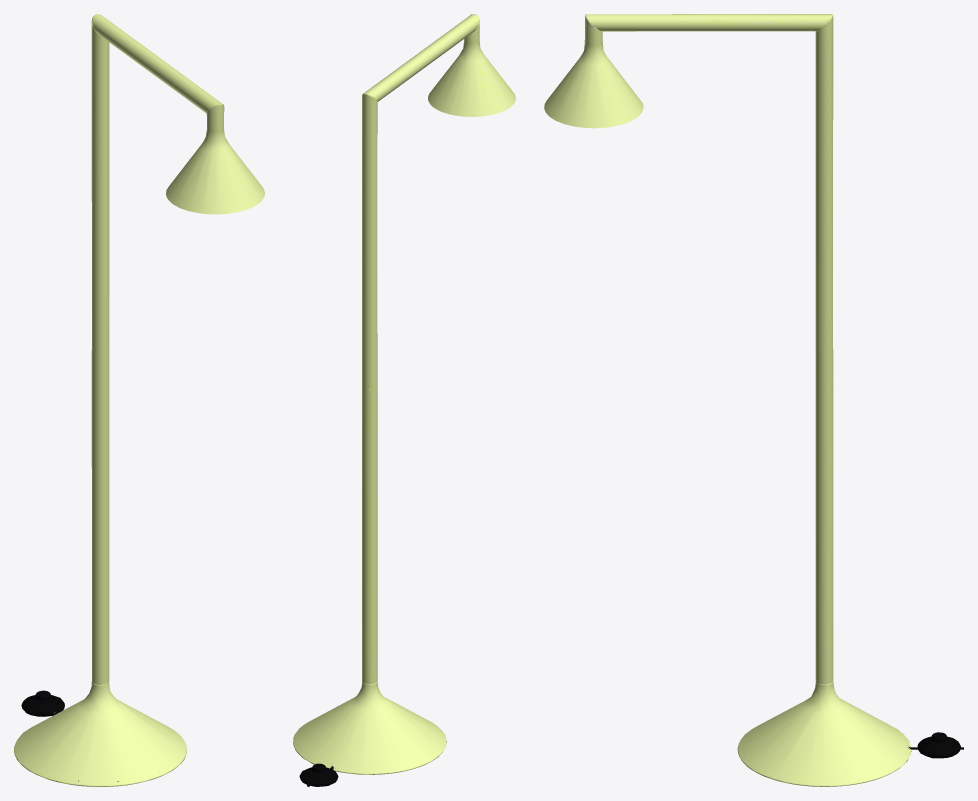
Rendered from 15 - IKEA PS 2026 Floor uplighter - yellow 182 cm.glb.
The picture shows the model from 3 angles, left to right: view 1: azimuth 30°, elevation 25°; view 2: azimuth 150°, elevation 25°; view 3: azimuth 270°, elevation 25°; orthographic projection. The views are drawn at different scales.
Parts seen in each view (by area): view 1: ASY_ART_80608532_S01_NV01; view 2: ASY_ART_80608532_S01_NV01; view 3: ASY_ART_80608532_S01_NV01.
Boxes of the visible parts, <box> form: ASY_ART_80608532_S01_NV01: <box>14,14,264,786</box>; ASY_ART_80608532_S01_NV01: <box>293,14,515,786</box>; ASY_ART_80608532_S01_NV01: <box>544,14,963,786</box>.
Bounding box in the file's own units: 0.2799 × 1.31 × 0.6768.
1 material, 1 textured.
